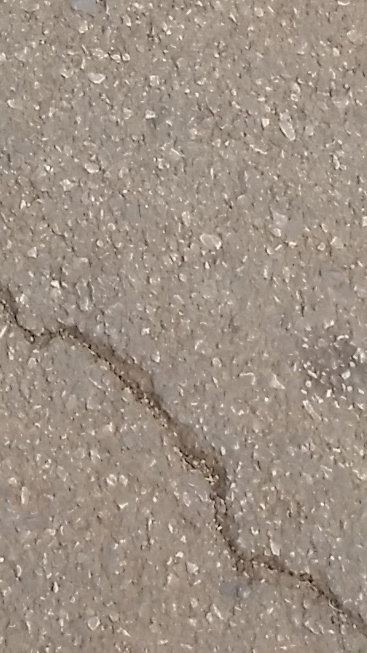A: (5, 280, 363, 637)
